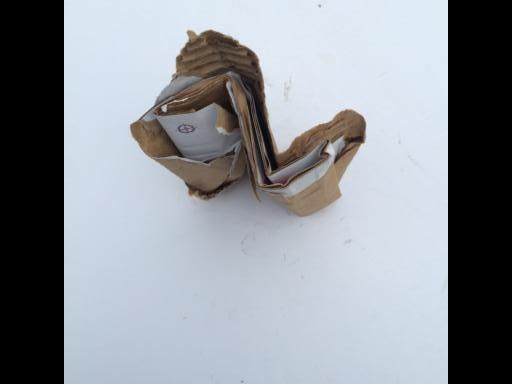metal: (130, 29, 367, 218)
